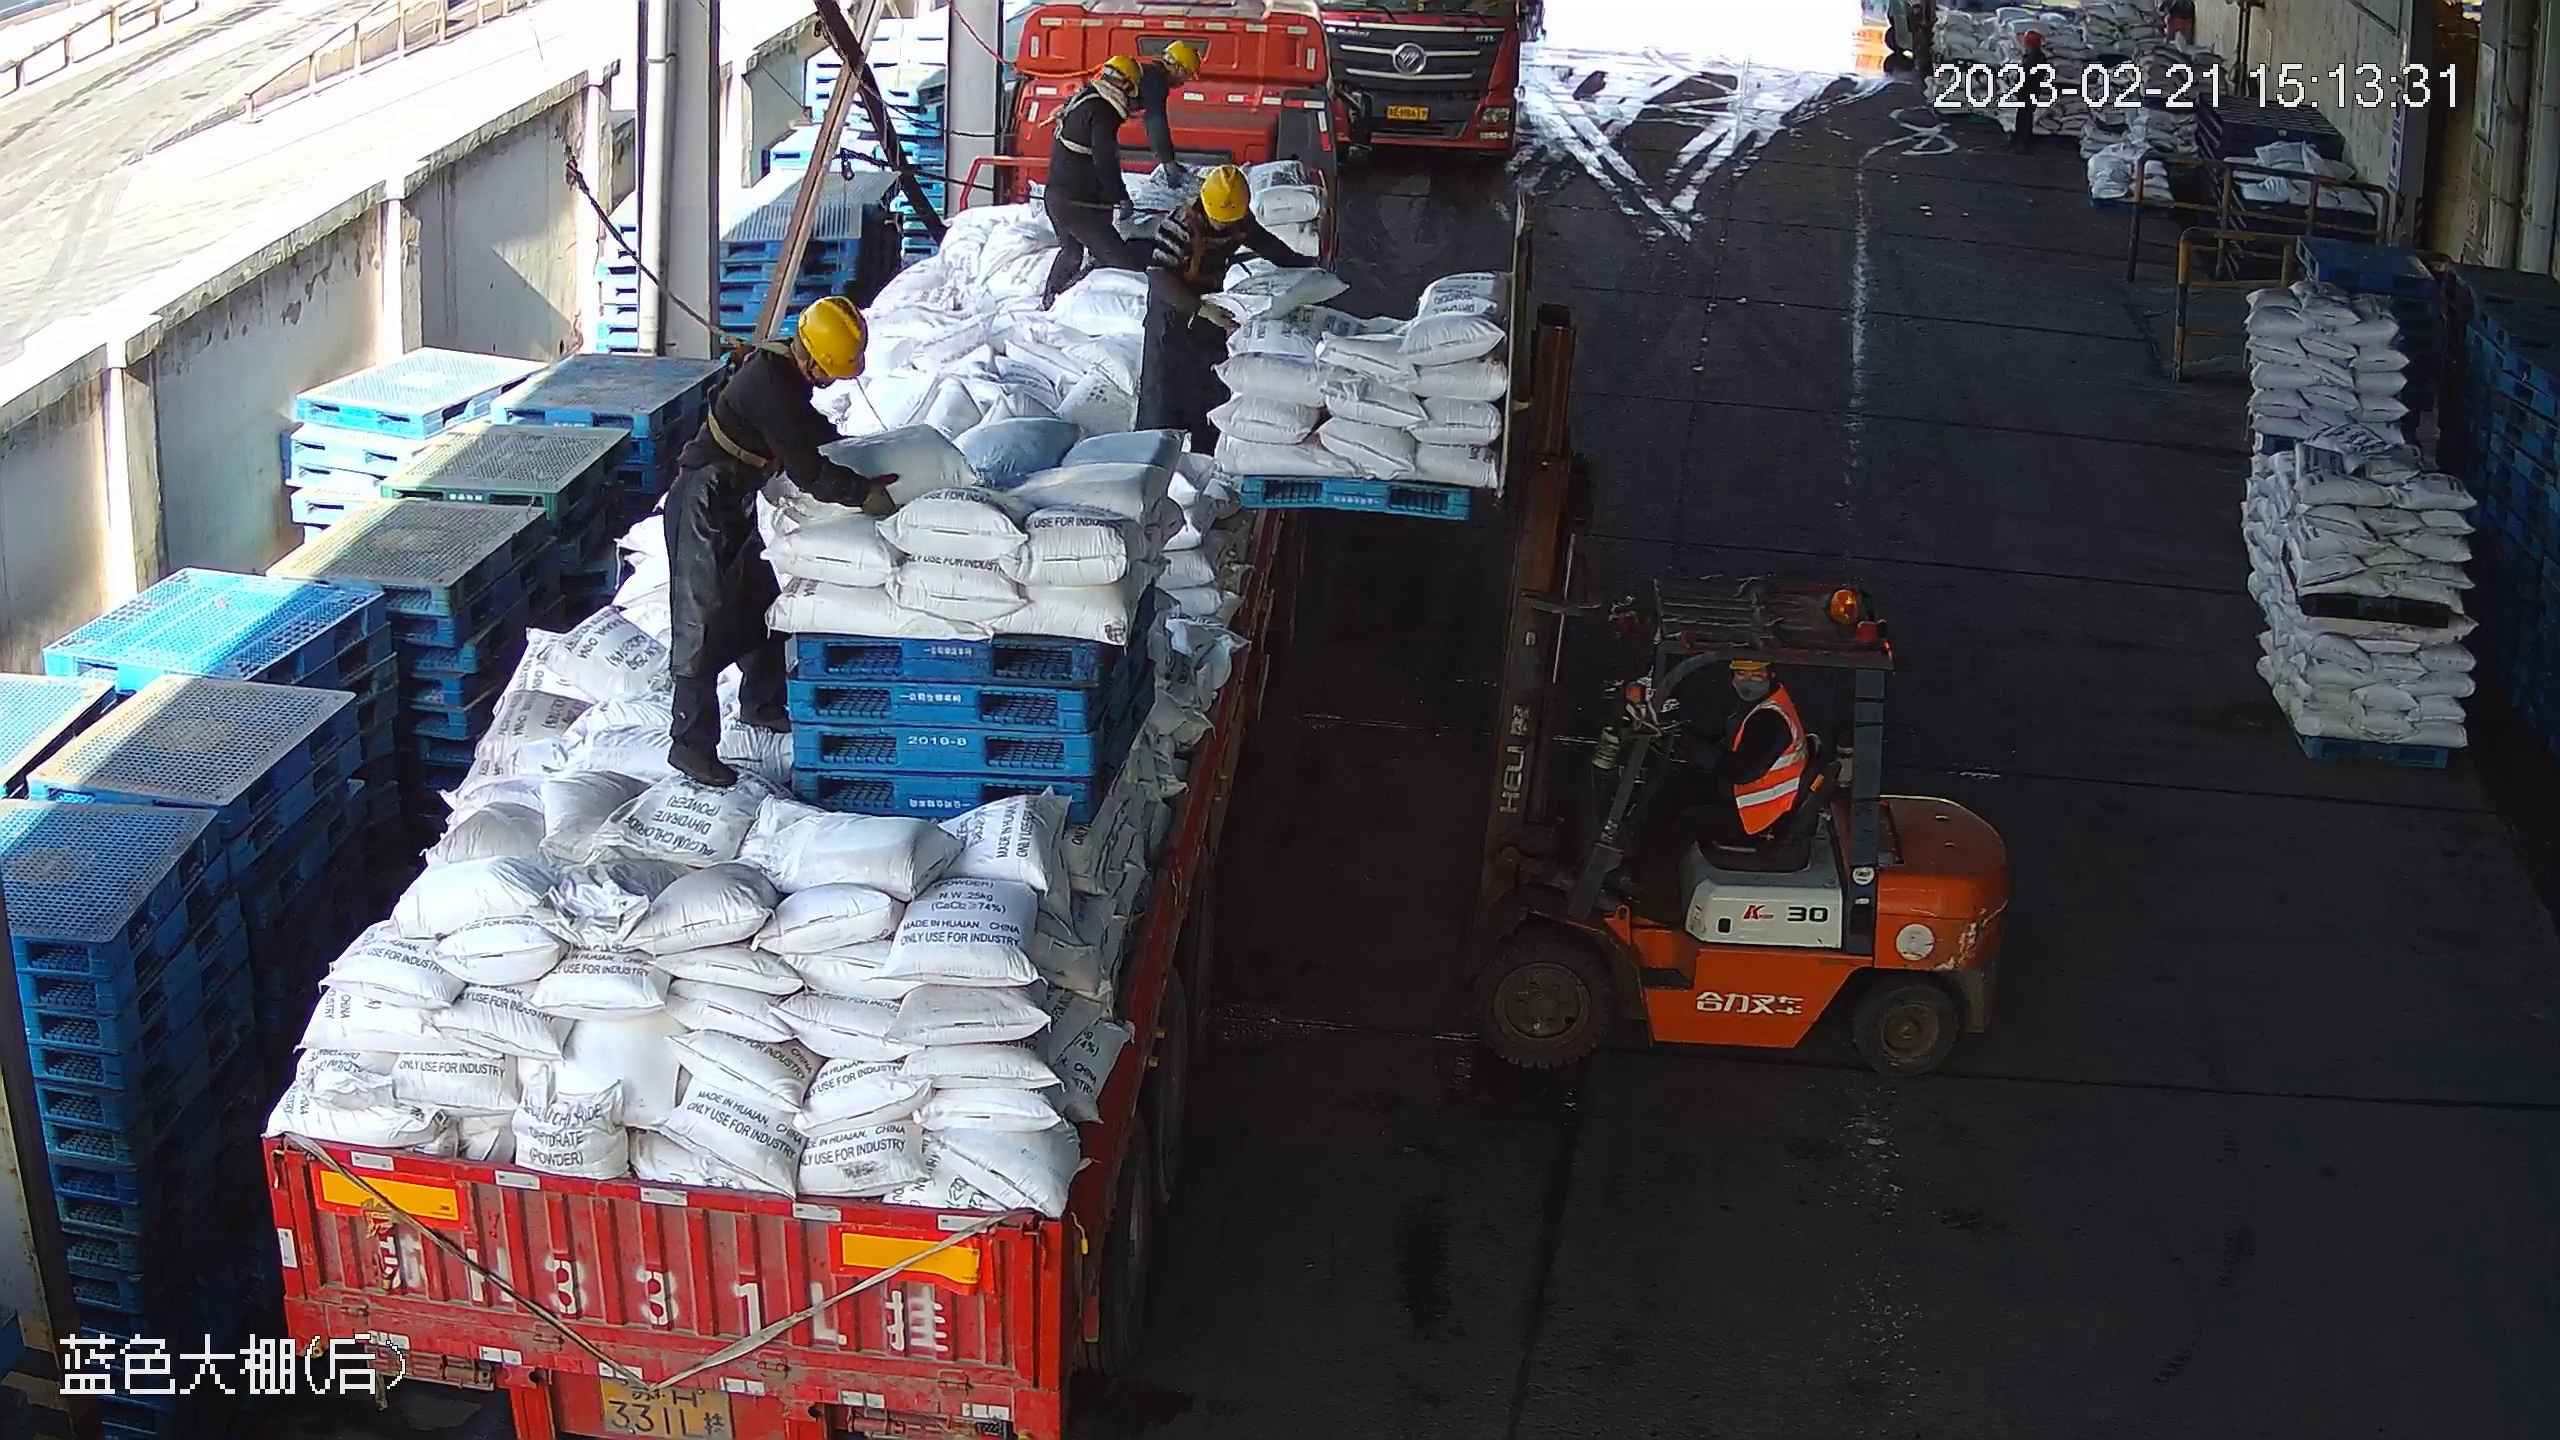belt: (705, 334, 793, 476), (1046, 87, 1100, 155), (1184, 208, 1228, 286)
head: (740, 295, 871, 414), (1154, 164, 1257, 256), (1070, 54, 1144, 125)
helmet: (798, 295, 870, 380), (1199, 163, 1252, 223), (1103, 53, 1143, 100), (1163, 41, 1201, 81)
people: (659, 295, 903, 789), (1132, 162, 1321, 462), (1616, 658, 1810, 893), (1040, 54, 1144, 311)
truck: (262, 22, 1375, 1440), (1316, 1, 1518, 168)
